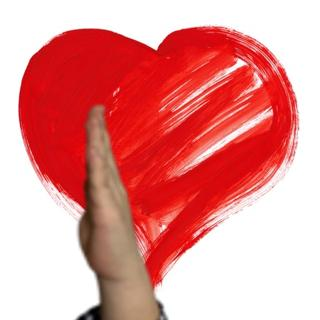RIGHT: (71, 101, 148, 281)
